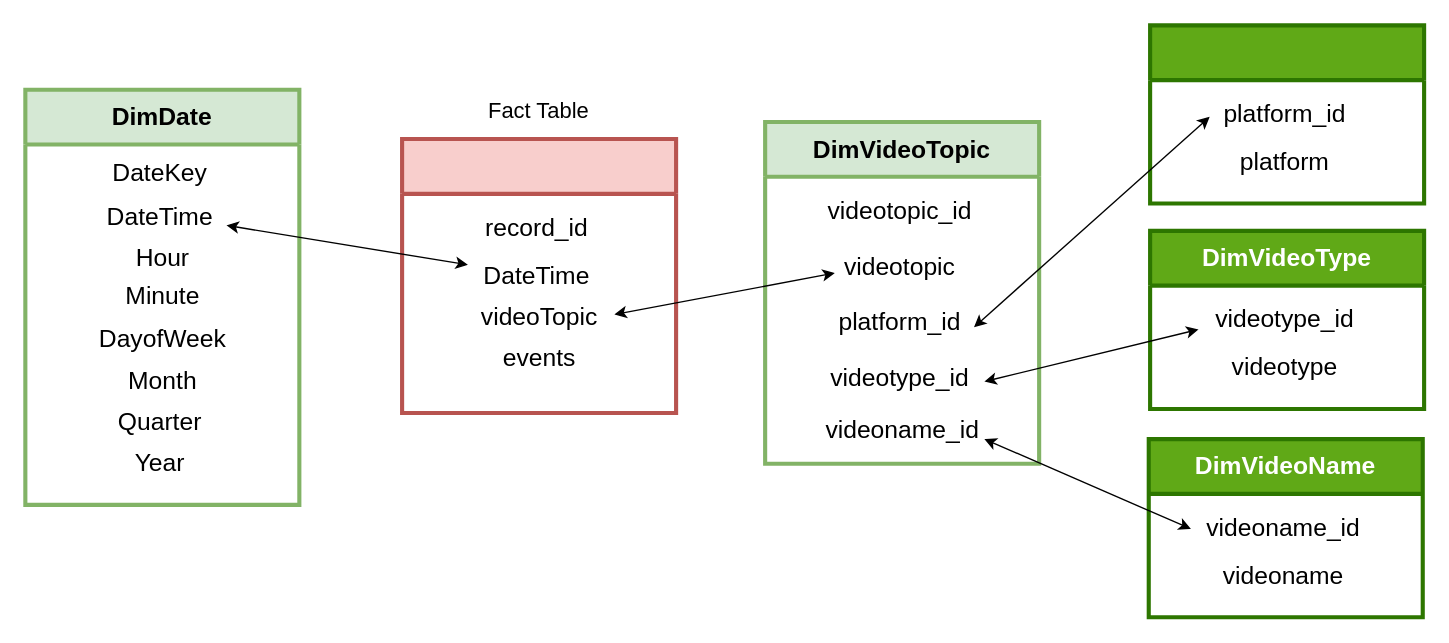
The diagram is 1449 pixels wide and 643 high, and some of its shapes have lost their labels. Each missing label, with the box of its shape:
DimPlatform: (1147, 23, 1425, 205)
FactVideo: (399, 136, 677, 414)
